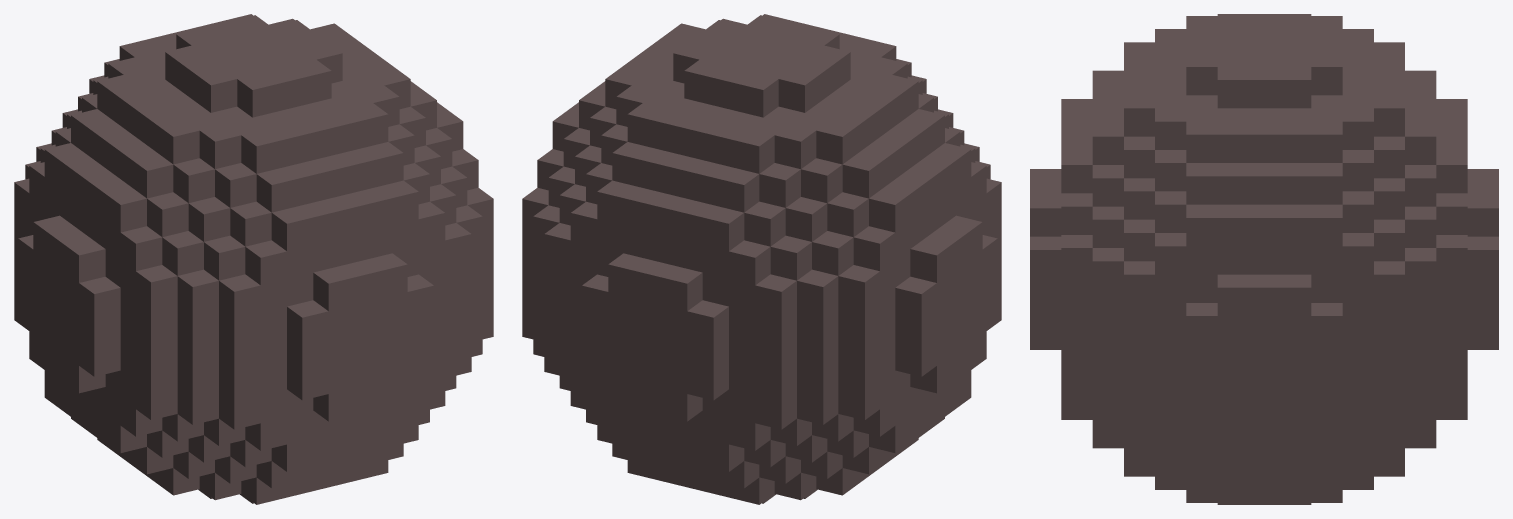
Rendered from Grey Ball.fbx.
3 renders of one model, left to right at view 1: azimuth 30°, elevation 25°; view 2: azimuth 150°, elevation 25°; view 3: azimuth 270°, elevation 25°, orthographic. The views are drawn at different scales.
Parts seen in each view (by area): view 1: Untitled.001; view 2: Untitled.001; view 3: Untitled.001.
Part boxes in pixels (x1,y1,x2,y2): Untitled.001: (14, 14, 493, 504); Untitled.001: (522, 14, 1001, 504); Untitled.001: (1030, 14, 1498, 504).
Bounding box in the file's own units: 150 × 150 × 150.
